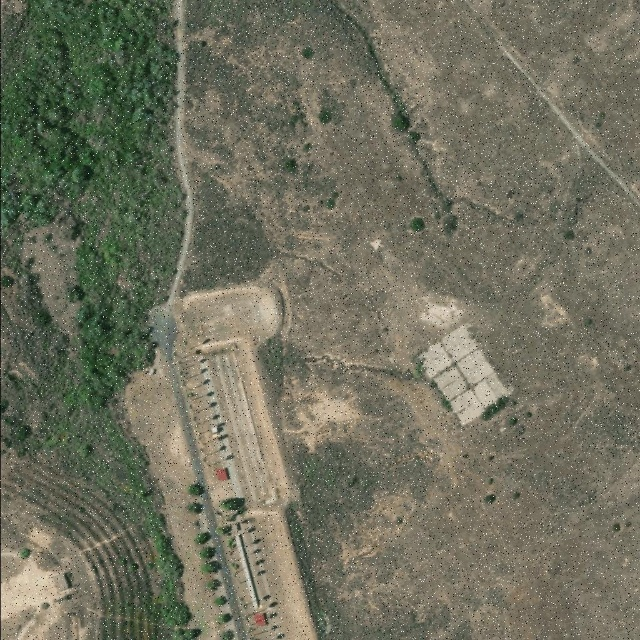vegetation: (0, 0, 203, 640), (186, 482, 234, 640)
